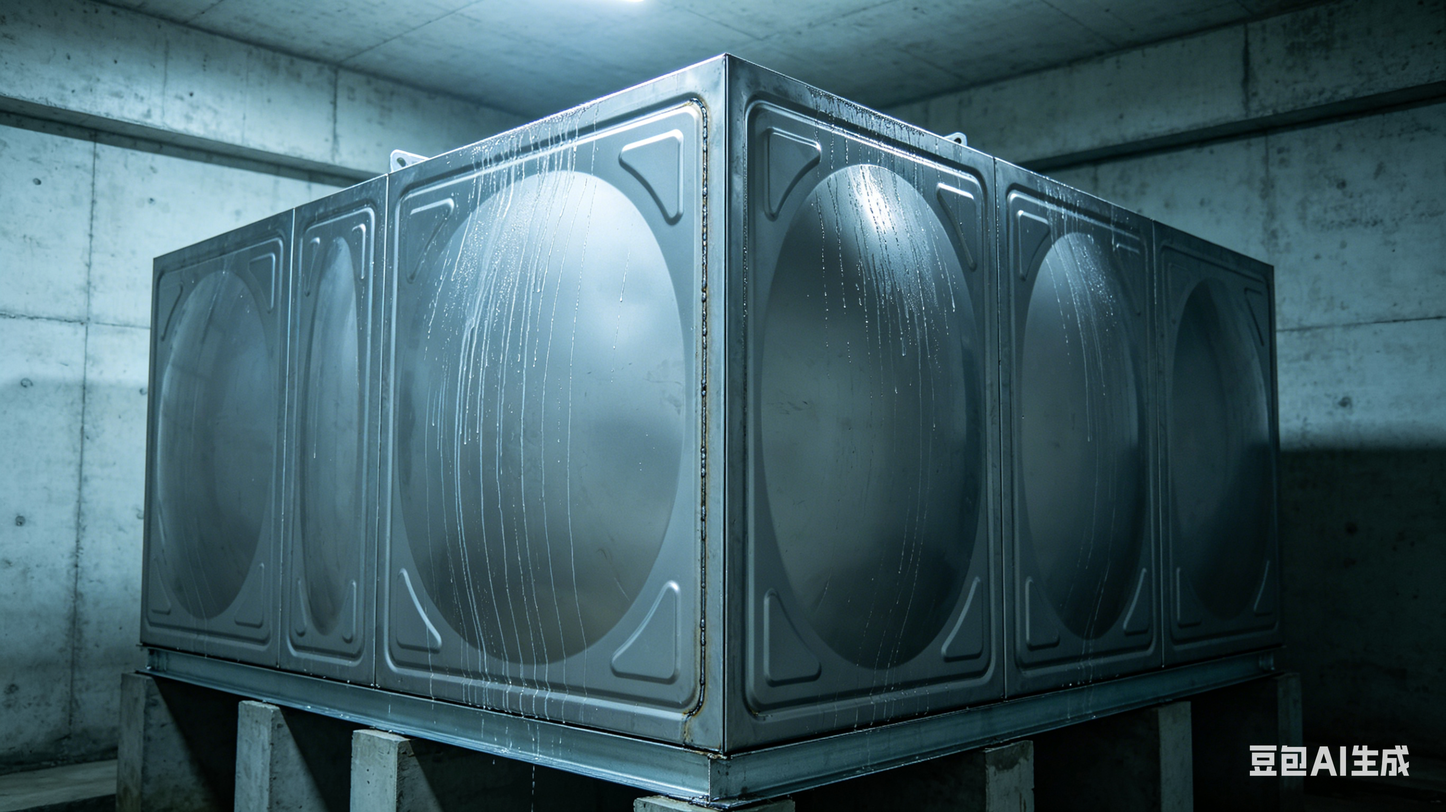Leakage: (444, 137, 629, 772), (802, 99, 962, 739), (1042, 183, 1161, 680)
